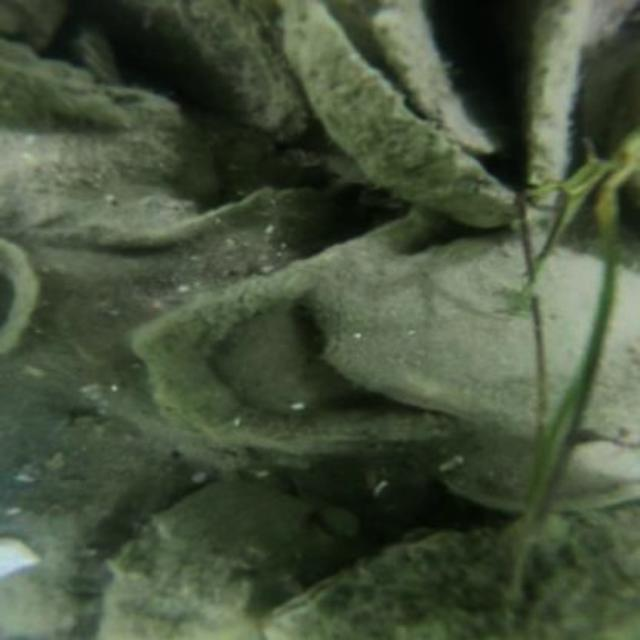Oyster-Closed: (127, 206, 501, 449), (318, 230, 638, 446), (272, 501, 638, 638), (0, 49, 204, 223), (102, 481, 301, 638), (95, 3, 310, 138), (373, 2, 517, 154), (2, 562, 72, 638), (570, 441, 638, 479)
Oyster-Open: (282, 0, 585, 224)
